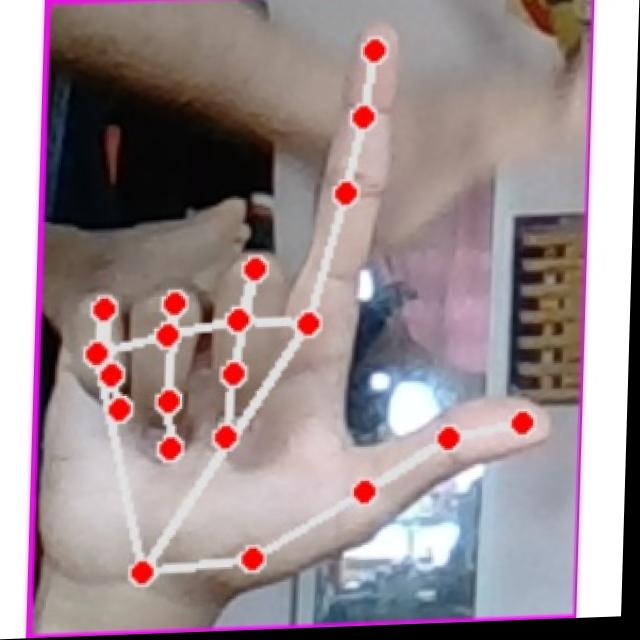L: (46, 5, 575, 584)
